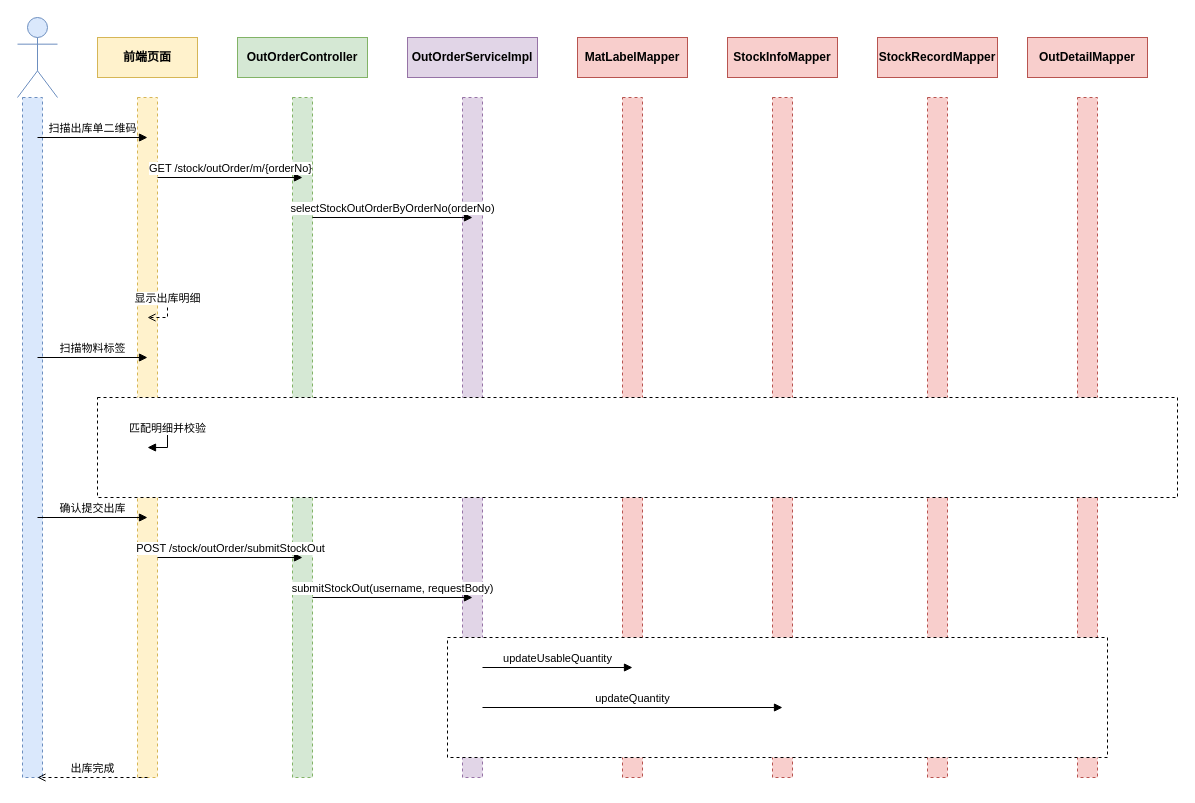
Image size: 1195x803. Some labels were removed from this diagram. The shapes that lost their labels are listed below. From the top down, each one's box as (x1, y1, x2, y2) in pixels, then its label:
(16, 16, 58, 98): 仓管员
(96, 396, 1178, 498): loop (扫描每个物料标签)
(446, 636, 1108, 758): loop (处理每个扫描的标签)
